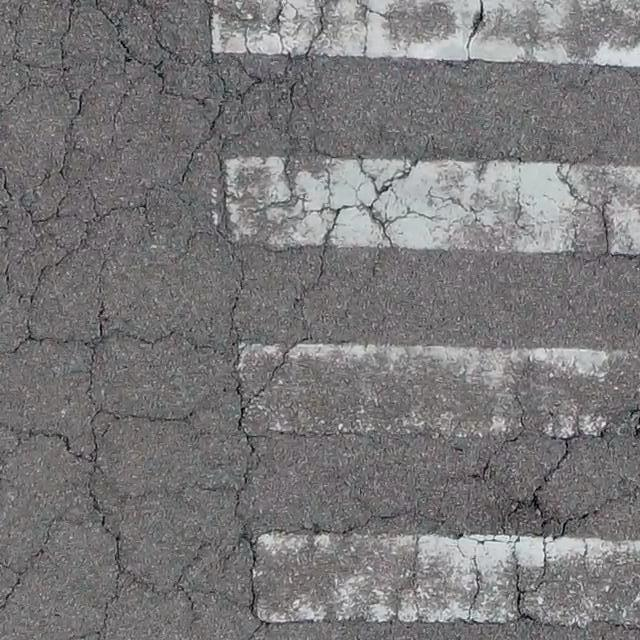GRIETA: (0, 518, 63, 612), (101, 594, 119, 639)
PIEL DE COCODRILO: (0, 0, 639, 639)
